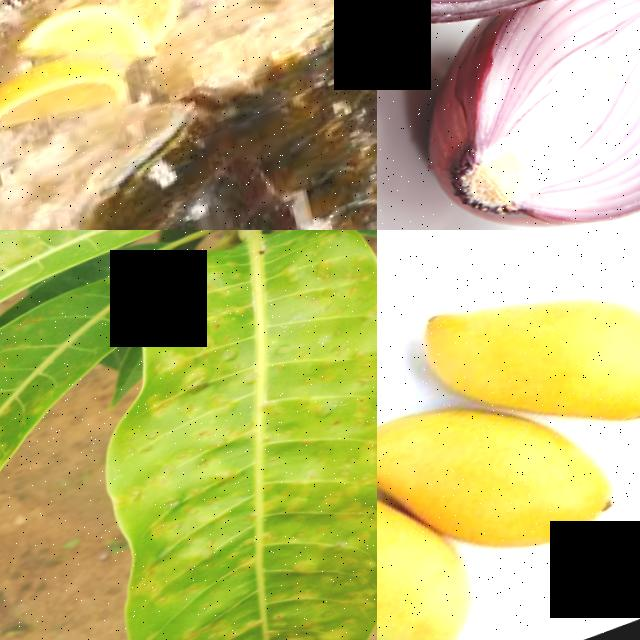lemon: (0, 41, 134, 149), (8, 0, 146, 78)
lobster tails: (61, 70, 377, 230), (225, 0, 377, 230)
mango: (442, 403, 640, 588), (523, 256, 640, 454), (377, 454, 434, 640)
onion: (397, 0, 640, 230), (377, 0, 640, 93)
